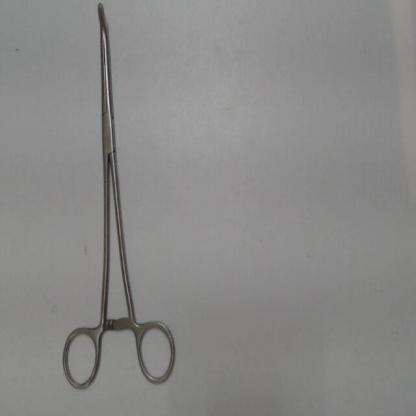Lahey Forceps: (57, 1, 183, 395)
